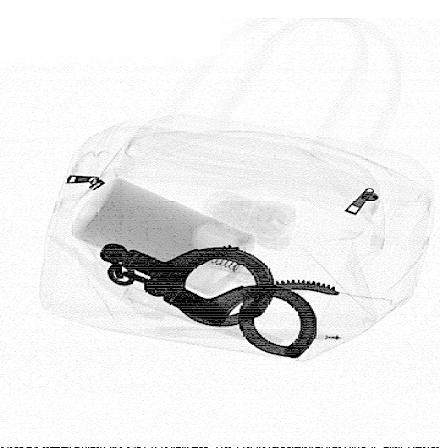HandCuffs: (94, 240, 343, 360)
